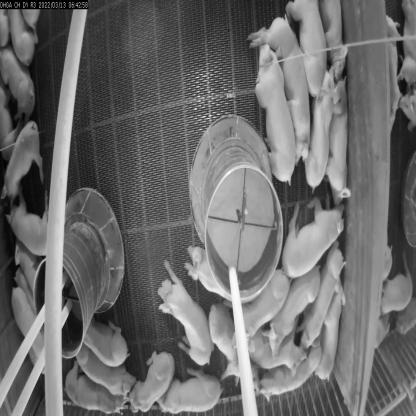Pig: (241, 4, 315, 157), (244, 44, 299, 177), (152, 247, 212, 355), (3, 278, 58, 390), (210, 296, 262, 410), (0, 104, 49, 213), (309, 271, 352, 388), (258, 343, 324, 416), (298, 64, 335, 192), (302, 229, 342, 347), (284, 0, 329, 103), (286, 195, 342, 274), (268, 260, 316, 350), (234, 264, 289, 341), (0, 50, 47, 134), (238, 317, 300, 380), (183, 223, 230, 305), (73, 340, 132, 405), (327, 85, 358, 206), (129, 343, 176, 416), (165, 362, 227, 415), (12, 198, 60, 266), (83, 310, 127, 373), (66, 368, 122, 415), (7, 234, 43, 301)
